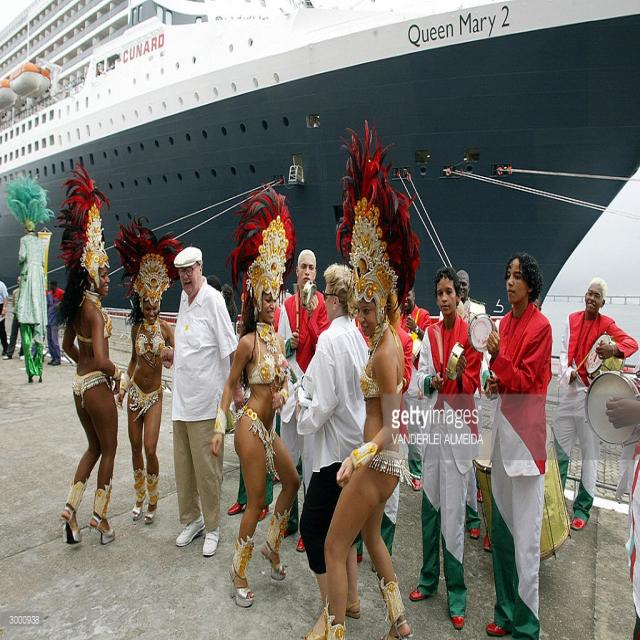body: (299, 114, 414, 639), (467, 249, 555, 639), (226, 183, 302, 609), (408, 261, 482, 637), (295, 263, 371, 621), (53, 159, 122, 546), (111, 206, 188, 523), (169, 242, 244, 560), (552, 276, 640, 531), (276, 246, 332, 554), (3, 172, 55, 384), (602, 363, 639, 639), (398, 283, 432, 492), (5, 273, 28, 362), (455, 268, 488, 327), (46, 277, 66, 367), (382, 479, 402, 550), (209, 278, 237, 328), (466, 508, 493, 556), (396, 314, 412, 389), (230, 429, 244, 514), (258, 463, 274, 523), (0, 280, 9, 356), (277, 288, 294, 325), (454, 300, 470, 323)
